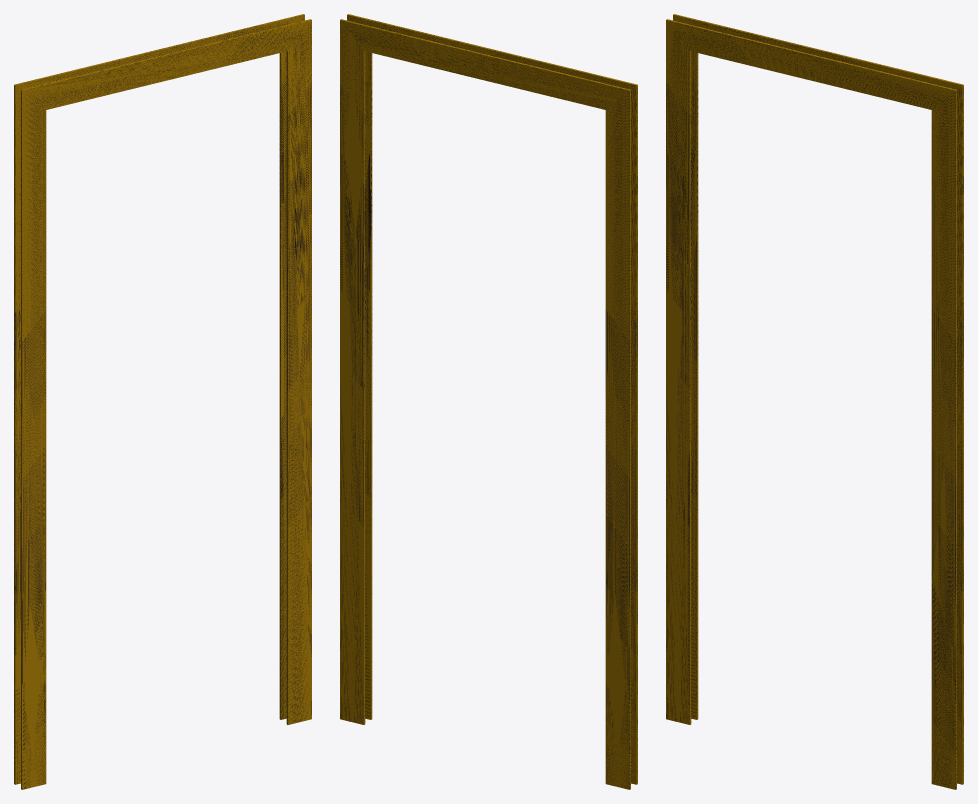
The model's file is frame.dae.
3 views of the same model, side by side, from view 1: azimuth 30°, elevation 25°; view 2: azimuth 150°, elevation 25°; view 3: azimuth 330°, elevation 25° (orthographic).
Parts seen in each view (by area): view 1: group_1.028, group_3.016; view 2: group_3.016, group_1.028; view 3: group_1.028, group_3.016.
Part boxes in pixels (x1,y1,x2,y2): group_1.028: (21,19,311,789); group_3.016: (14,14,304,784); group_3.016: (340,19,630,789); group_1.028: (347,14,637,784); group_1.028: (666,19,956,789); group_3.016: (673,14,963,784).
Size of the model in its own units: 0.9144 by 0.0445 by 2.11.
Materials: 2 (1 with a texture image).
